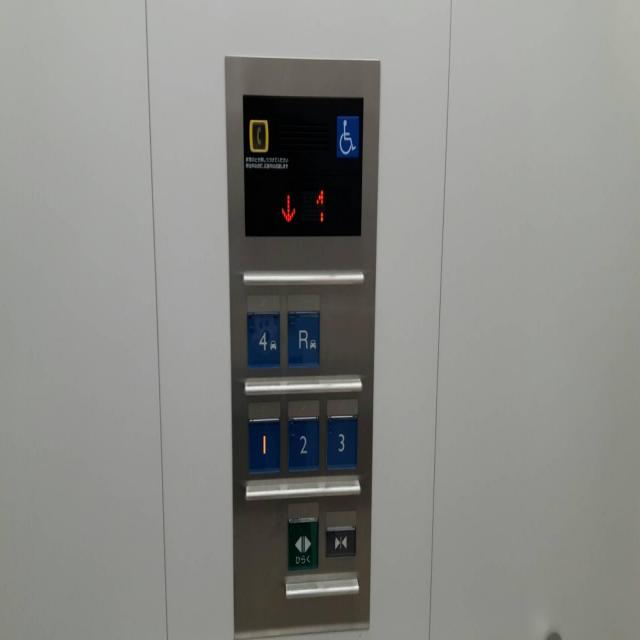1: (245, 414, 282, 476)
2: (286, 414, 318, 473)
3: (323, 414, 358, 473)
4: (244, 308, 281, 371)
CH: (335, 115, 360, 162)
R: (285, 308, 321, 372)
call: (248, 115, 270, 154)
close: (323, 523, 358, 559)
led: (271, 180, 332, 232)
open: (284, 516, 320, 572)
